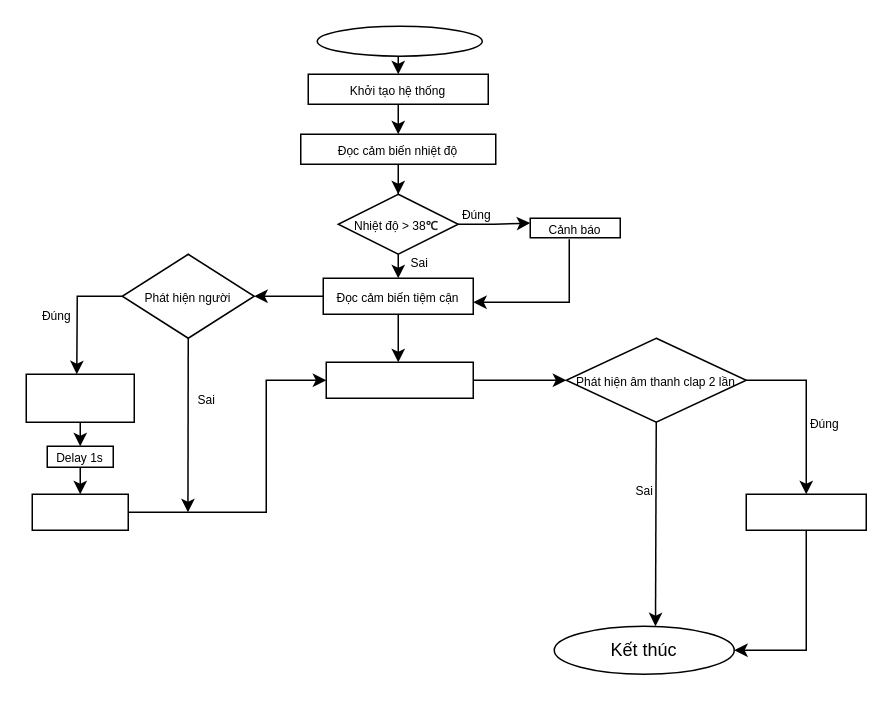
Image size: 893x701. Some labels were removed from this diagram. Here are the shapes that lost their labels. From the top down, the centre of each, then its label:
At point (399, 40): "Bắt đầu".
At point (79, 397): "Mở cửa (Servo)+ buzzer kêu".
At point (399, 379): "Đọc cảm biến âm thanh".
At point (79, 511): "Đóng cửa(Servo)".
At point (805, 511): "Bật/Tắt đèn".
